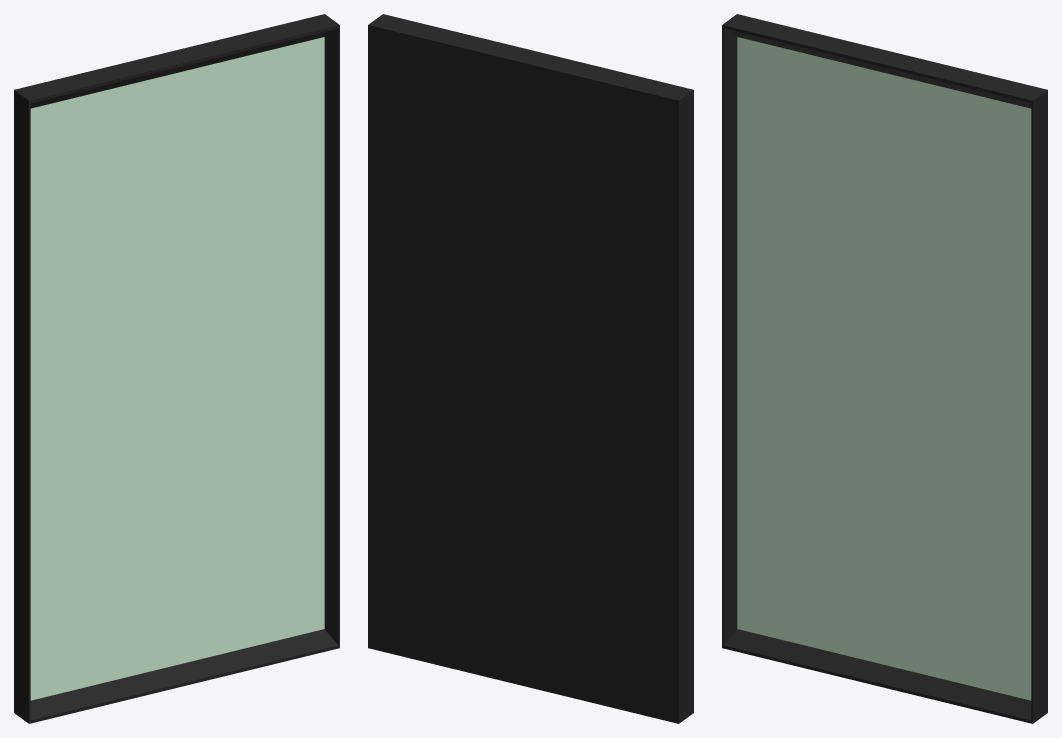
The model's file is Mirror.glb.
3 views of the same model, side by side, from view 1: azimuth 30°, elevation 25°; view 2: azimuth 150°, elevation 25°; view 3: azimuth 330°, elevation 25° (orthographic).
Visible parts, largest first — view 1: Mirror; view 2: Mirror; view 3: Mirror.
Boxes of the visible parts, box(x1,y1,x2,y2) form: Mirror: box(14, 14, 339, 723); Mirror: box(368, 14, 693, 723); Mirror: box(722, 14, 1047, 723).
Size of the model in its own units: 2.4 by 4.6 by 0.2.
Materials: 2 (1 with a texture image).
